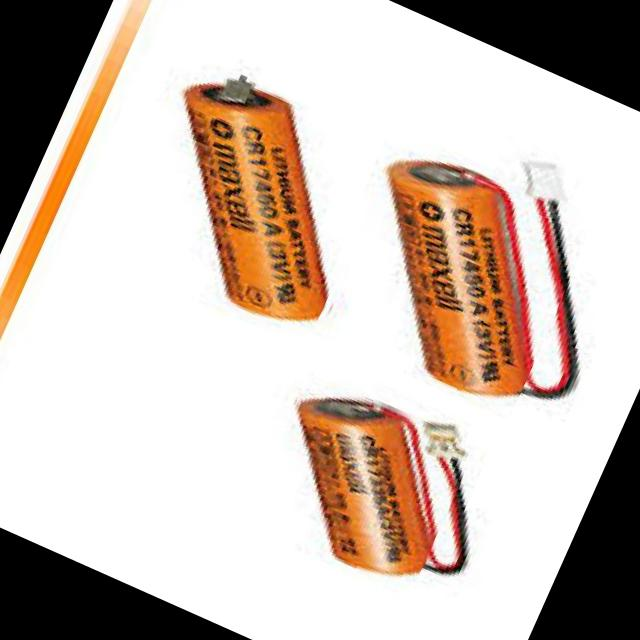Hazard: (106, 54, 396, 340), (311, 136, 595, 418), (242, 369, 476, 593)
